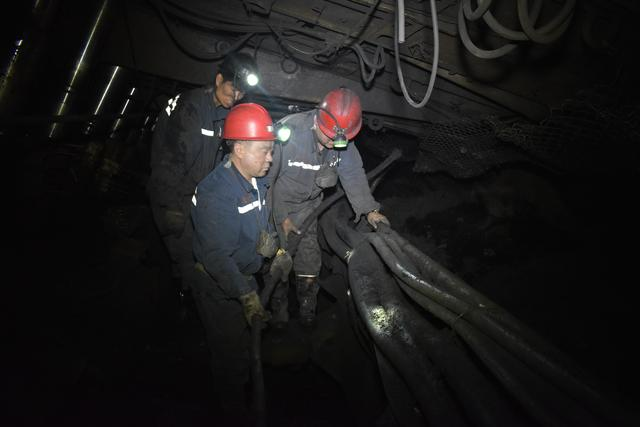device: (144, 53, 257, 325), (268, 84, 391, 329), (193, 102, 273, 403)
